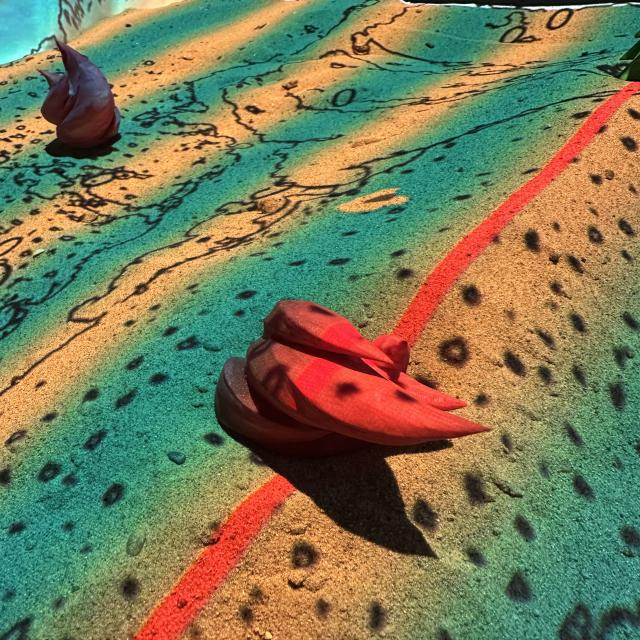fire: (213, 298, 492, 458), (35, 38, 125, 156)
